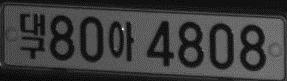0: (208, 22, 234, 70), (79, 16, 104, 62)
4: (145, 20, 174, 67)
8: (239, 23, 267, 71), (177, 20, 204, 68), (49, 15, 75, 61)
대구_V: (18, 12, 46, 60)
아: (108, 20, 134, 61)
